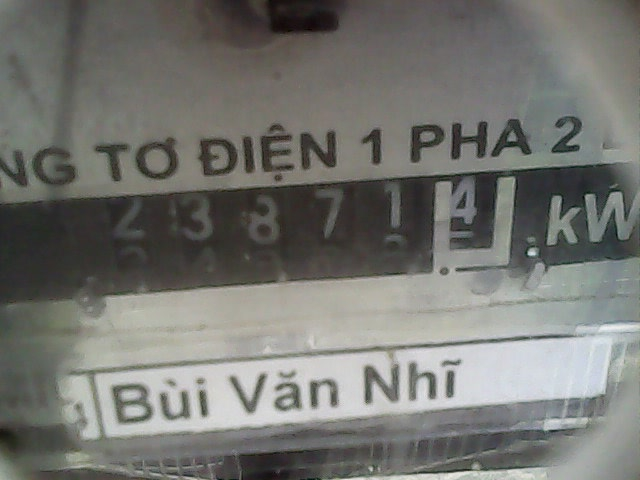phy_plate: (95, 165, 521, 283)
